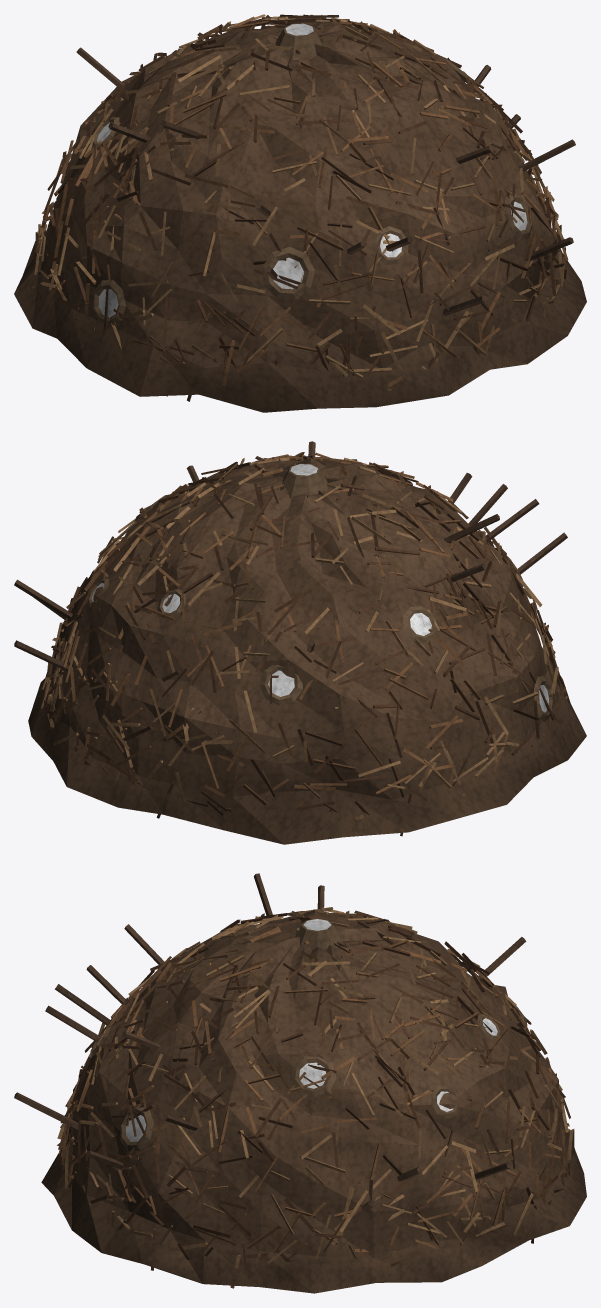
Rendered from gang_colonie_1.glb.
3 renders of one model, top to bottom at view 1: azimuth 30°, elevation 25°; view 2: azimuth 150°, elevation 25°; view 3: azimuth 270°, elevation 25°, orthographic. The views are drawn at different scales.
Visible parts, largest first — view 1: habitat_colonie; view 2: habitat_colonie; view 3: habitat_colonie.
Part boxes in pixels (<box>): habitat_colonie: <box>14,14,586,412</box>; habitat_colonie: <box>14,441,586,844</box>; habitat_colonie: <box>14,873,586,1293</box>.
Size of the model in its own units: 54.33 by 28.66 by 56.69.
7 materials, 7 textured.
